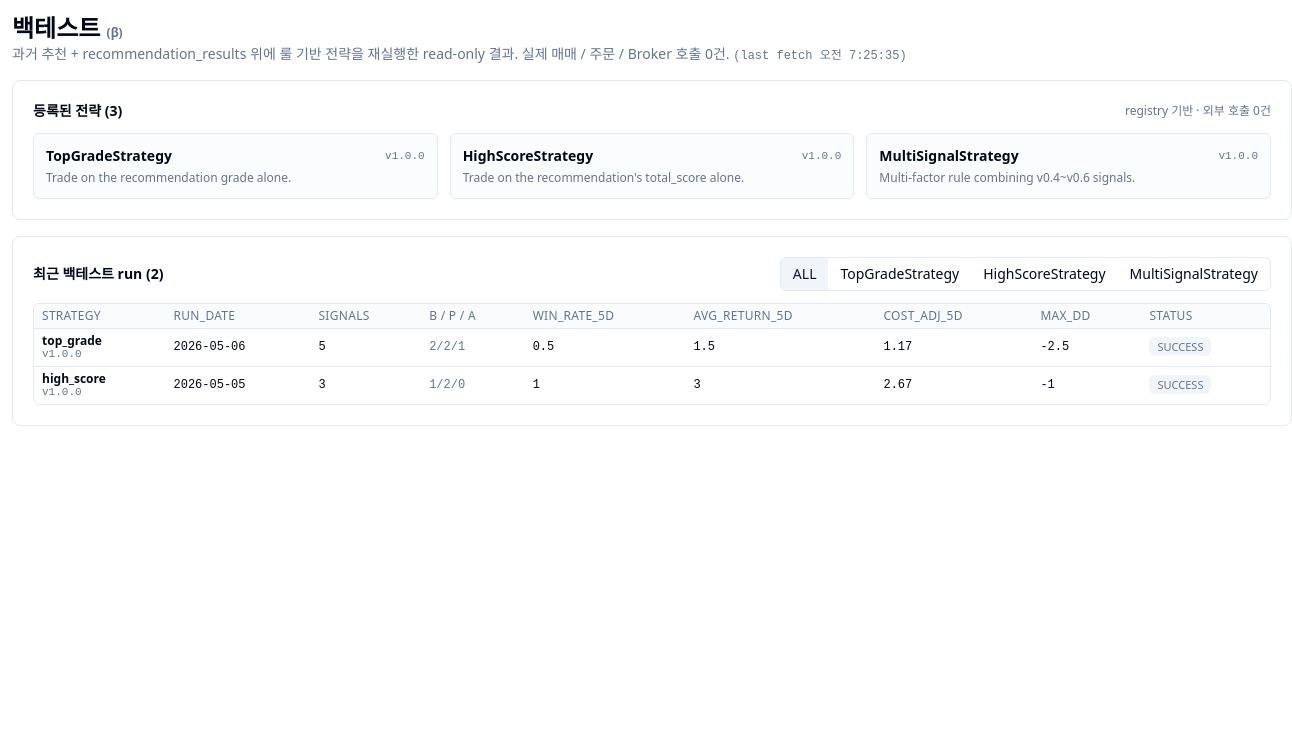
Test: BacktestPage — multi-strategy comparison (v0.12 Phase D) › shows empty placeholder when no comparison data
Click the row with test id "backtest-run-row-42" at [652, 347], box left=34, top=328, right=1270, bottom=366
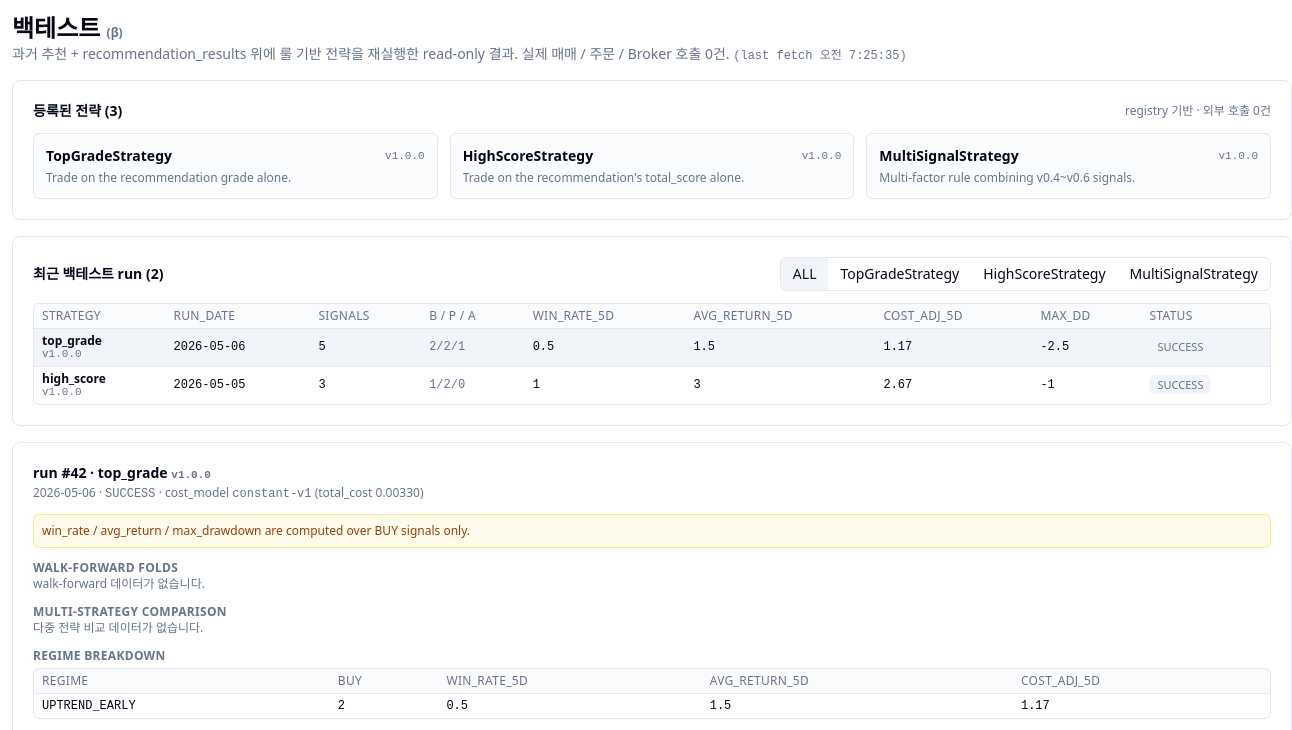
Expected: the element with test id "backtest-comparison-empty" is shown, left=33, top=602, right=227, bottom=636
